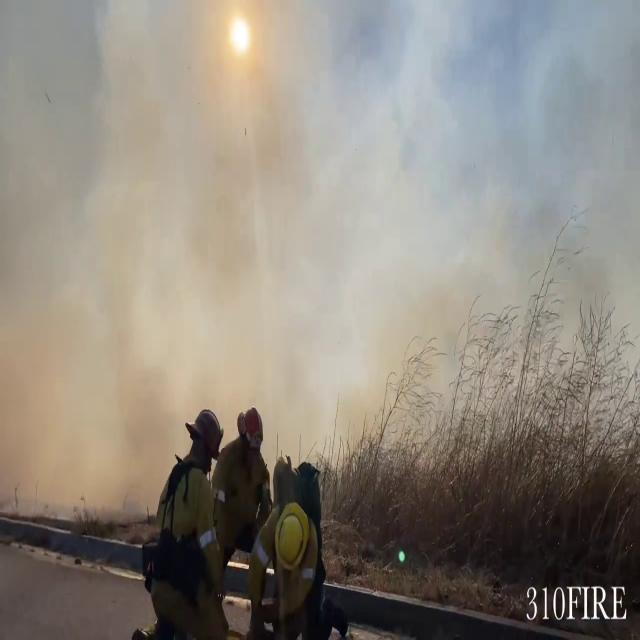Smoke: (0, 12, 214, 532)
